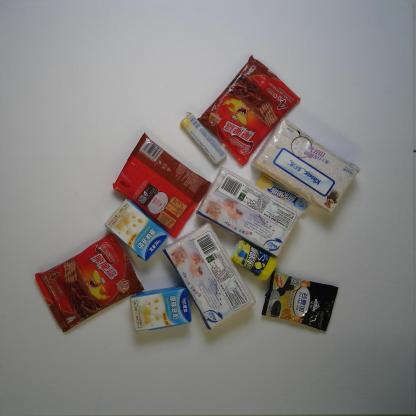Candy: (180, 110, 228, 166), (254, 172, 312, 216)
Dessert: (196, 54, 302, 168), (33, 231, 147, 335), (111, 131, 213, 241)
Gum: (229, 236, 279, 282)
Instant Drink: (260, 269, 340, 334)
Milk: (104, 196, 170, 263), (129, 285, 192, 334)
Tissue: (248, 115, 362, 216), (162, 220, 257, 332), (194, 164, 305, 259)
